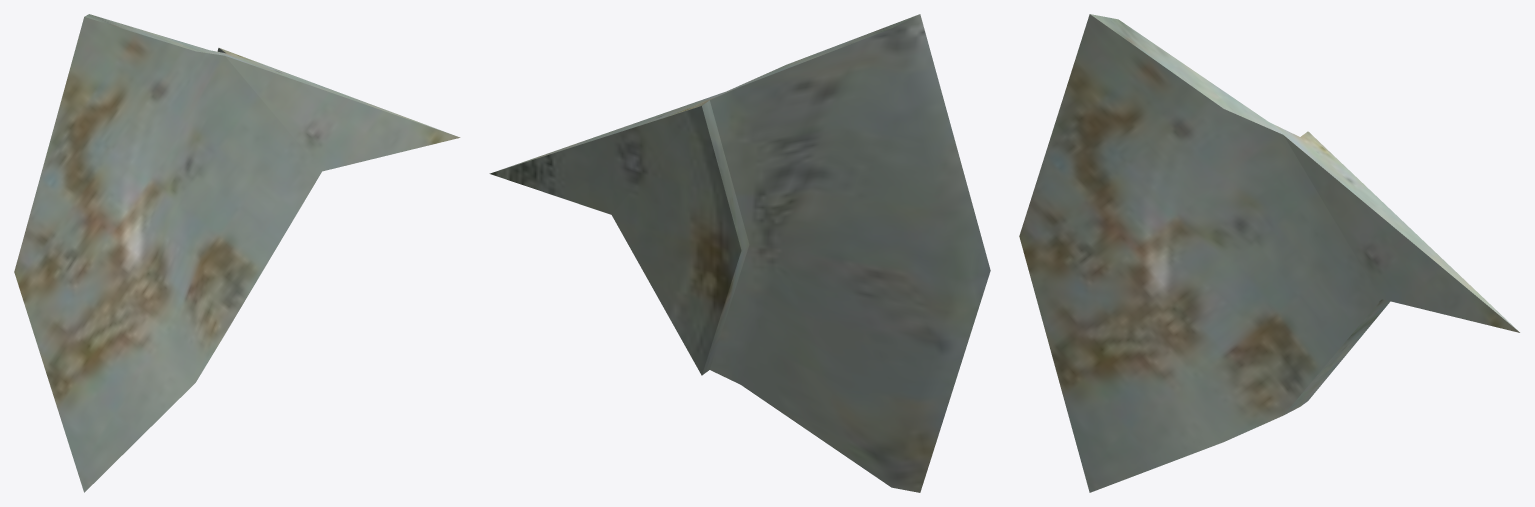
The model's file is prop_diningplate_brokenplain2.glb.
The picture shows the model from 3 angles, left to right: view 1: azimuth 30°, elevation 25°; view 2: azimuth 150°, elevation 25°; view 3: azimuth 330°, elevation 25°; orthographic projection.
Size of the model in its own units: 6.67 by 6.42 by 1.01.
Materials: 1 (1 with a texture image).
